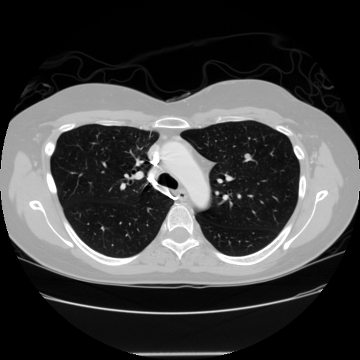nodule: (243, 152, 251, 160)
